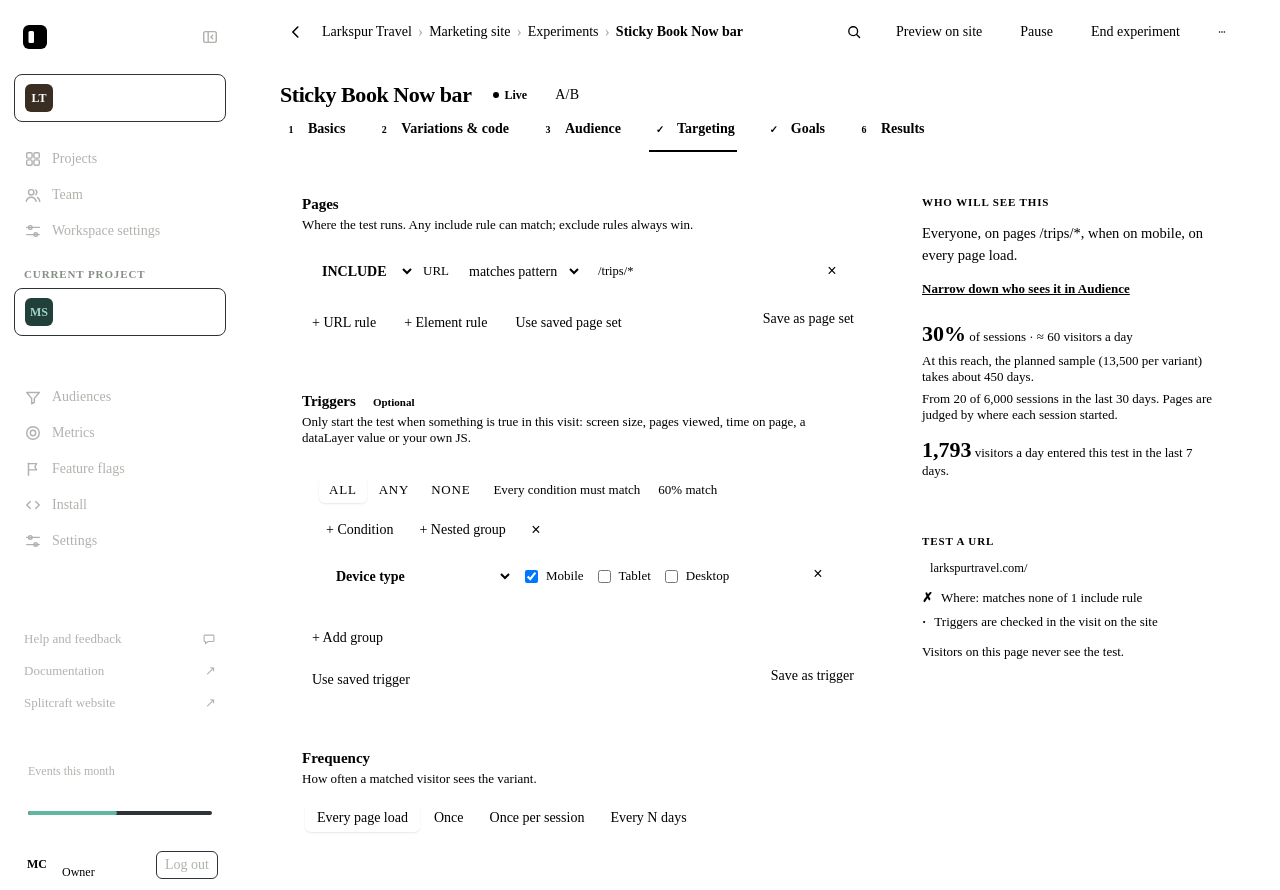
Test case: targeting › shows live traffic and warns that saved rules apply to live visitors
The width and height of the screenshot is (1280, 890).
Expected: the heading "Pages" is shown, [302,196,339,212]
Expected: the text "1,793 visitors a day entered this test in the last 7 days." is shown, [922,437,1218,479]
Click the radio button labelled "Once": coordinates (449, 818) [422,804,476,832]
(page scrolled)
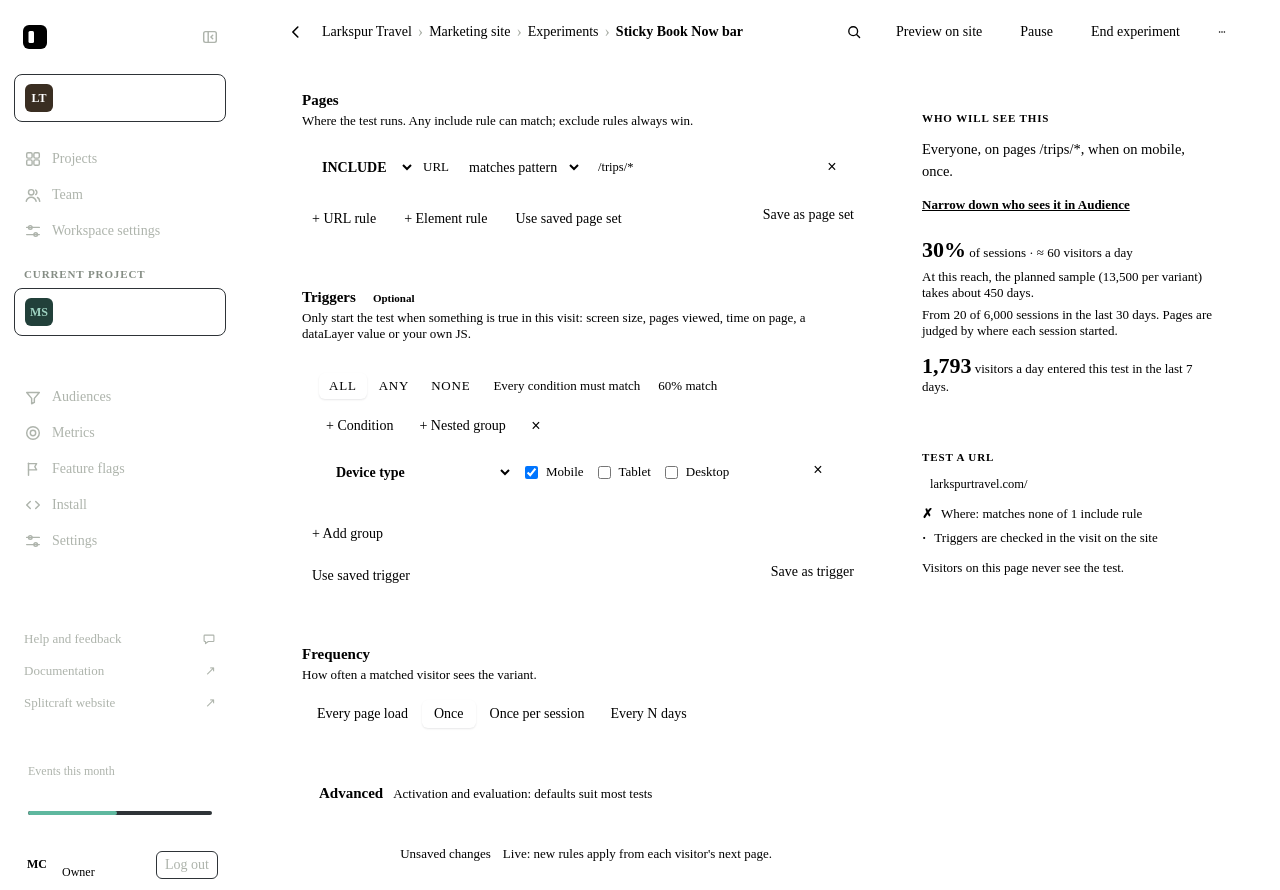
Now the text "Live: new rules apply from each visitor's next page." is shown, box [503,846,772,862]
